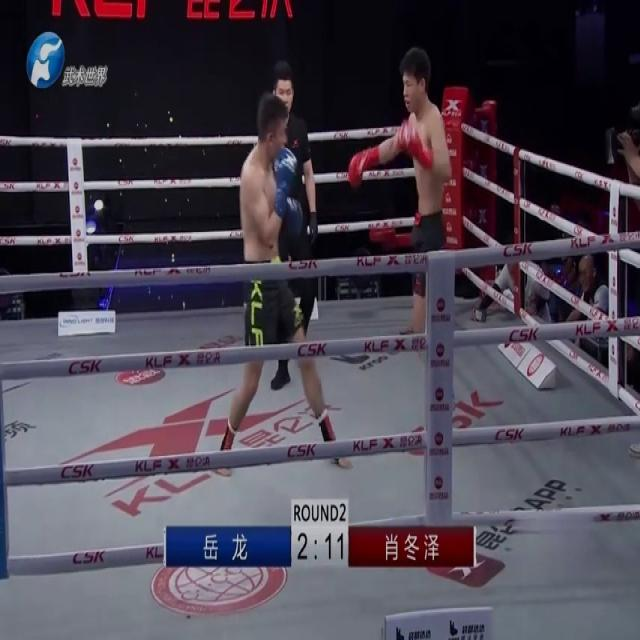fight: (213, 50, 450, 476)
non-fight: (268, 58, 320, 394), (600, 102, 638, 408), (559, 254, 609, 367)
